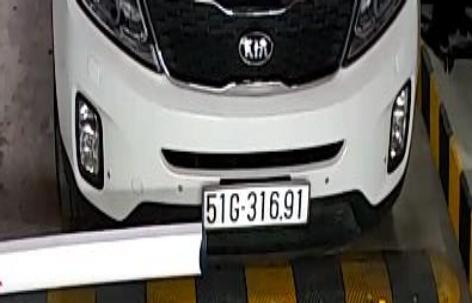plate: (200, 183, 308, 228)
